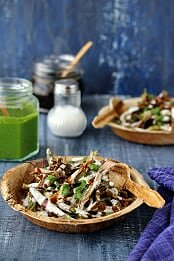sandwich: (1, 154, 165, 231), (91, 90, 174, 145)
